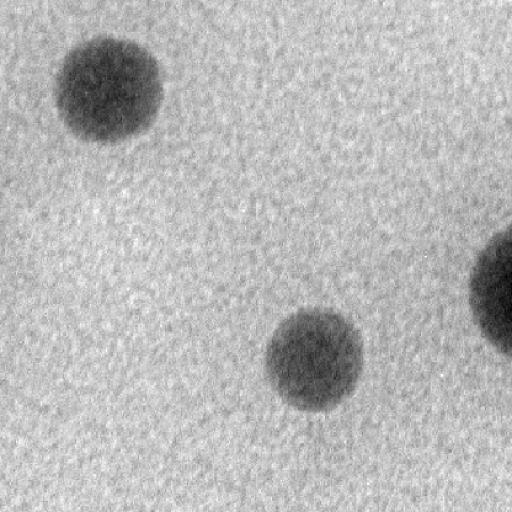Nanoparticles: (55, 36, 164, 146), (264, 306, 366, 418), (469, 223, 512, 363)
